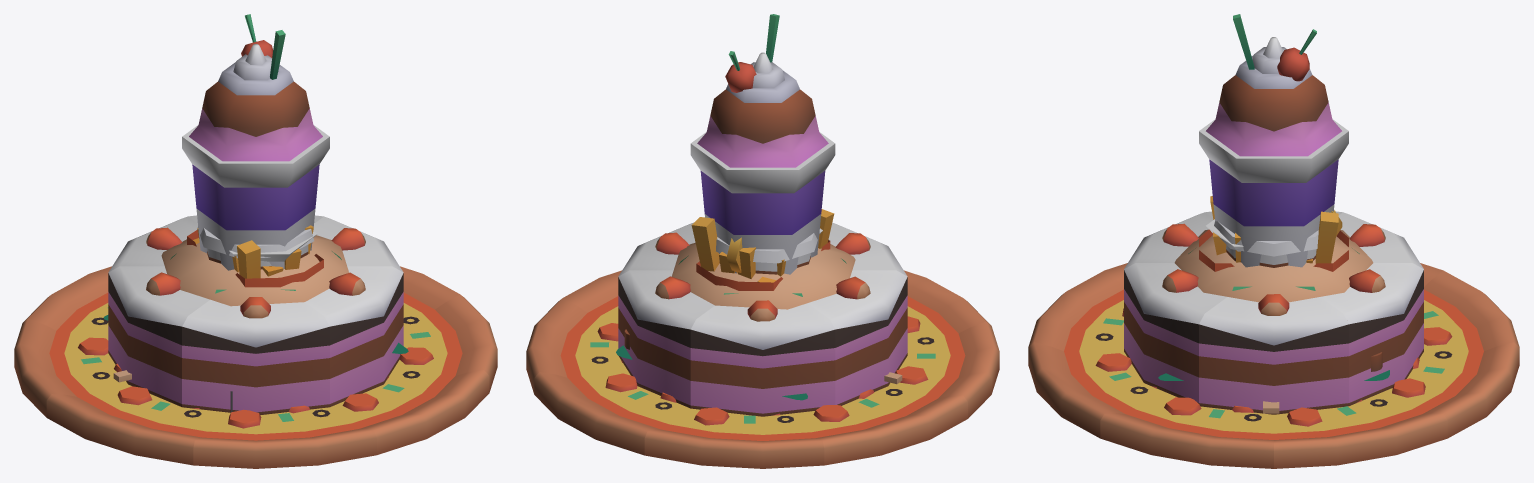
Rendered from food.glb.
3 views of the same model, side by side, from view 1: azimuth 30°, elevation 25°; view 2: azimuth 150°, elevation 25°; view 3: azimuth 270°, elevation 25° (orthographic). The views are drawn at different scales.
Visible parts, largest first — view 1: pizza, cake, sundae, burger, fries, frappe; view 2: pizza, cake, sundae, burger, fries, frappe; view 3: pizza, cake, sundae, burger, fries, frappe.
Boxes of the visible parts, x1=… form: pizza: x1=14, y1=266, x2=497, y2=468; cake: x1=108, y1=215, x2=403, y2=414; sundae: x1=182, y1=14, x2=329, y2=270; burger: x1=161, y1=235, x2=348, y2=306; fries: x1=187, y1=225, x2=323, y2=287; frappe: x1=197, y1=226, x2=314, y2=269; pizza: x1=526, y1=270, x2=999, y2=468; cake: x1=618, y1=222, x2=907, y2=416; sundae: x1=690, y1=14, x2=835, y2=274; burger: x1=671, y1=242, x2=855, y2=309; fries: x1=691, y1=209, x2=834, y2=290; frappe: x1=716, y1=233, x2=817, y2=274; pizza: x1=1028, y1=263, x2=1519, y2=468; cake: x1=1124, y1=211, x2=1423, y2=414; sundae: x1=1199, y1=14, x2=1348, y2=267; burger: x1=1174, y1=229, x2=1373, y2=302; fries: x1=1199, y1=196, x2=1348, y2=271; frappe: x1=1214, y1=221, x2=1318, y2=267.
Size of the model in its own units: 0.36 by 0.2851 by 0.36.
